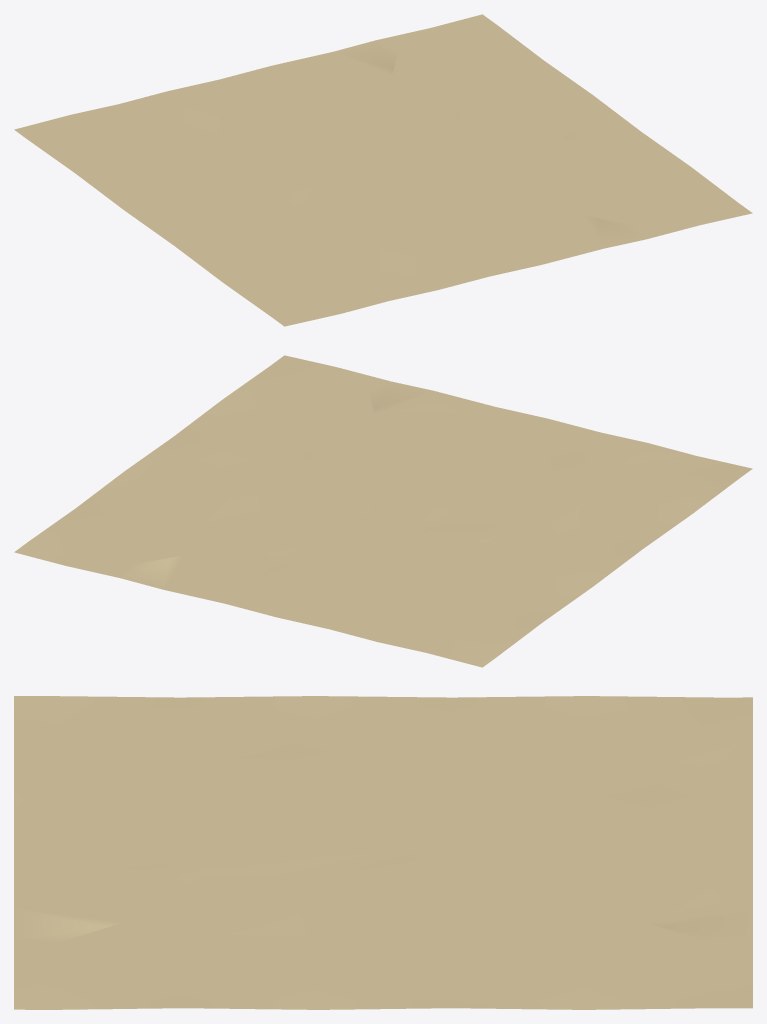
File: BeachSandPatch.glb
3 renders of one model, top to bottom at view 1: azimuth 30°, elevation 25°; view 2: azimuth 150°, elevation 25°; view 3: azimuth 270°, elevation 25°, orthographic. The views are drawn at different scales.
Visible parts, largest first — view 1: BeachSandPatch_Beach_Warm_Sand; view 2: BeachSandPatch_Beach_Warm_Sand; view 3: BeachSandPatch_Beach_Warm_Sand.
Part boxes in pixels (left/top/right/bottom): BeachSandPatch_Beach_Warm_Sand: left=14, top=14, right=752, bottom=326; BeachSandPatch_Beach_Warm_Sand: left=14, top=355, right=752, bottom=667; BeachSandPatch_Beach_Warm_Sand: left=14, top=696, right=752, bottom=1009.
Bounding box in the file's own units: 40 × 0.1057 × 40.
